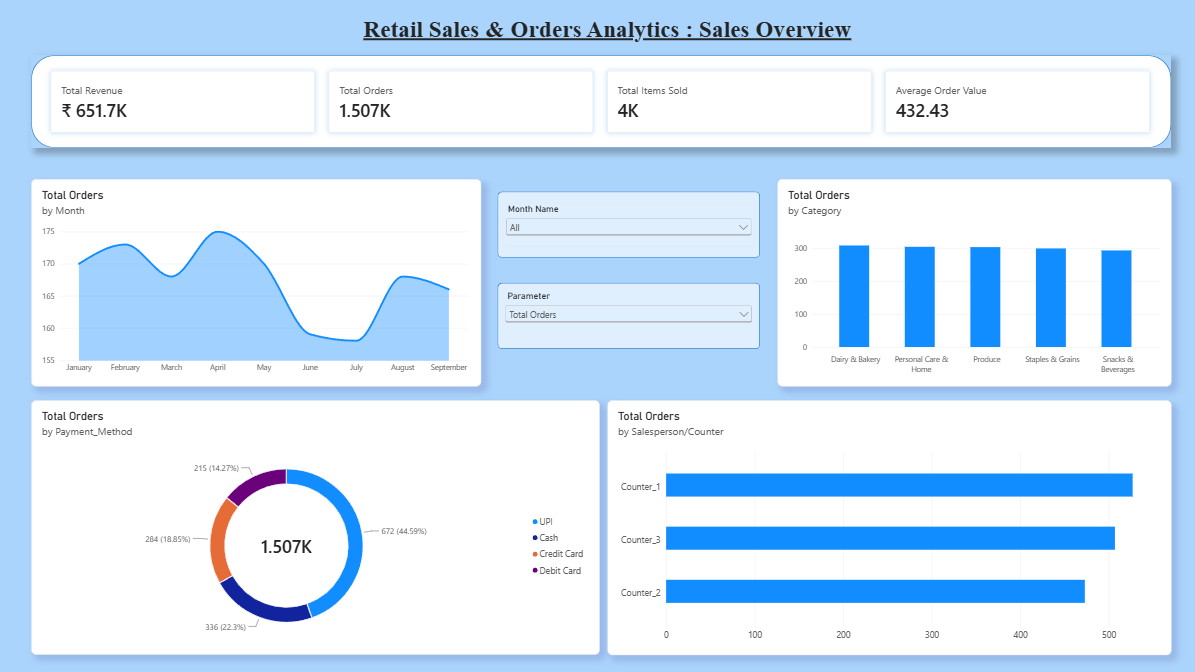

Layout of this report page (visuals, bound fields, positions):
{"tool":"powerbi","page":{"name":"Sales Overview","canvas":[1920,1080],"ordinal":0},"visuals":[{"type":"shape","box":[50.1,89.7,1824,148.2],"z":0},{"type":"cardVisual","fields":{"Data":["_Measures.Total Revenue","_Measures.Total Orders","_Measures.Total Items Sold","_Measures.Average Order Value"]},"box":[71,104.3,1780.2,121],"z":1000},{"type":"stackedAreaChart","fields":{"Category":["Dim_Date.Date.Variation.Date Hierarchy.Month"],"Y":["_Measures.Total Orders"]},"box":[50.1,288,720,331.8],"z":2000},{"type":"clusteredColumnChart","fields":{"Category":["RAW_Products.Category"],"Y":["_Measures.Total Orders"]},"box":[1244,288,630,332],"z":3000},{"type":"donutChart","fields":{"Category":["RAW_Sales.Payment_Method"],"Y":["_Measures.Total Orders"]},"box":[50.1,642.8,909.9,407],"z":4000},{"type":"clusteredBarChart","fields":{"Category":["RAW_Sales.Salesperson/Counter"],"Y":["_Measures.Total Orders"]},"box":[972,642,902,408],"z":5000},{"type":"shape","box":[796,454,420,106],"z":6000},{"type":"slicer","fields":{"Values":["Parameter.Parameter"]},"box":[804,466,404,84],"z":7000},{"type":"shape","box":[796,308,420,106],"z":8000},{"type":"slicer","fields":{"Values":["Dim_Date.Month Name"]},"box":[804,326,404,70],"z":9000},{"type":"textbox","box":[69.8,26.2,1803.5,125.6],"z":10000},{"type":"shape","box":[50.6,7,430.8,75],"z":10500},{"type":"pageNavigator","box":[71,12.5,392.4,62.8],"z":11000}]}

Visuals, with their boxes in screenshot pixels (x1, y1, x2, y2), scaled from the page's 1920x1080 canvas onto the 1195x672 screenshot:
shape: 31/56/1166/148
cardVisual - _Measures.Total Revenue x _Measures.Total Orders: 44/65/1152/140
stackedAreaChart - Dim_Date.Date.Variation.Date Hierarchy.Month x _Measures.Total Orders: 31/179/479/386
clusteredColumnChart - RAW_Products.Category x _Measures.Total Orders: 774/179/1166/386
donutChart - RAW_Sales.Payment_Method x _Measures.Total Orders: 31/400/598/653
clusteredBarChart - RAW_Sales.Salesperson/Counter x _Measures.Total Orders: 605/399/1166/653
shape: 495/282/757/348
slicer - Parameter.Parameter: 500/290/752/342
shape: 495/192/757/258
slicer - Dim_Date.Month Name: 500/203/752/246
textbox: 43/16/1166/94
shape: 31/4/300/51
pageNavigator: 44/8/288/47
